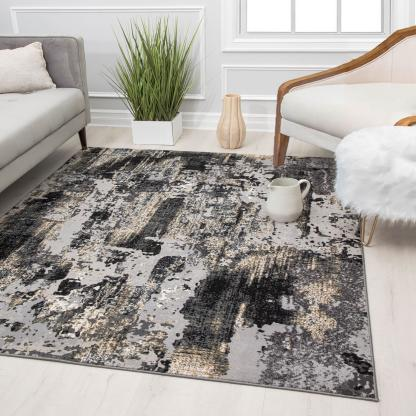Carpet: (0, 145, 377, 399)
